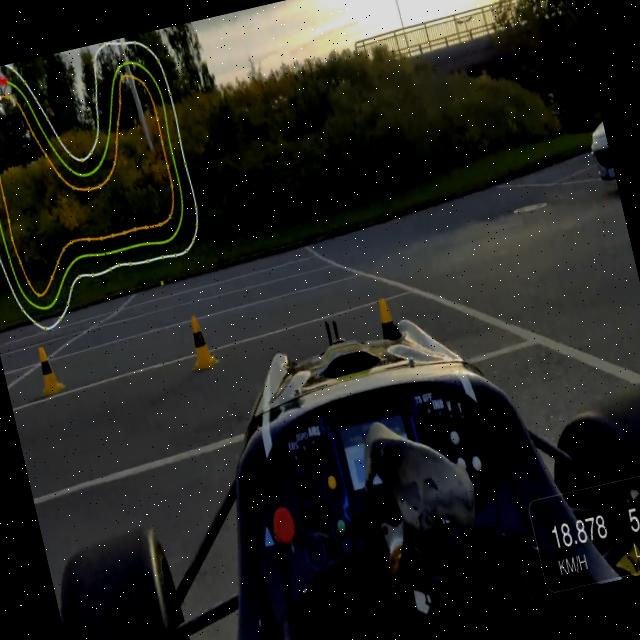yellow_cone: (366, 292, 418, 396), (182, 310, 218, 372), (32, 341, 68, 399)
